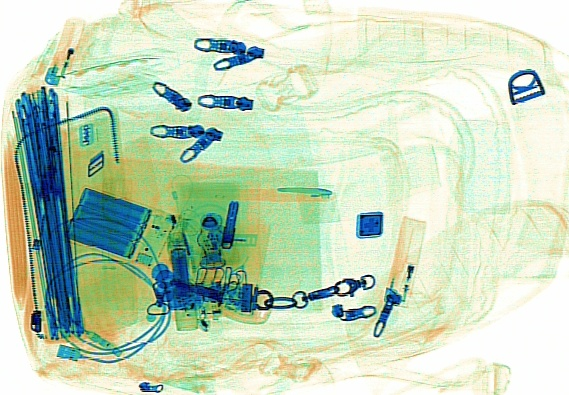lighter: (380, 213, 427, 306), (43, 15, 87, 83)
powerbank: (62, 181, 179, 267)
